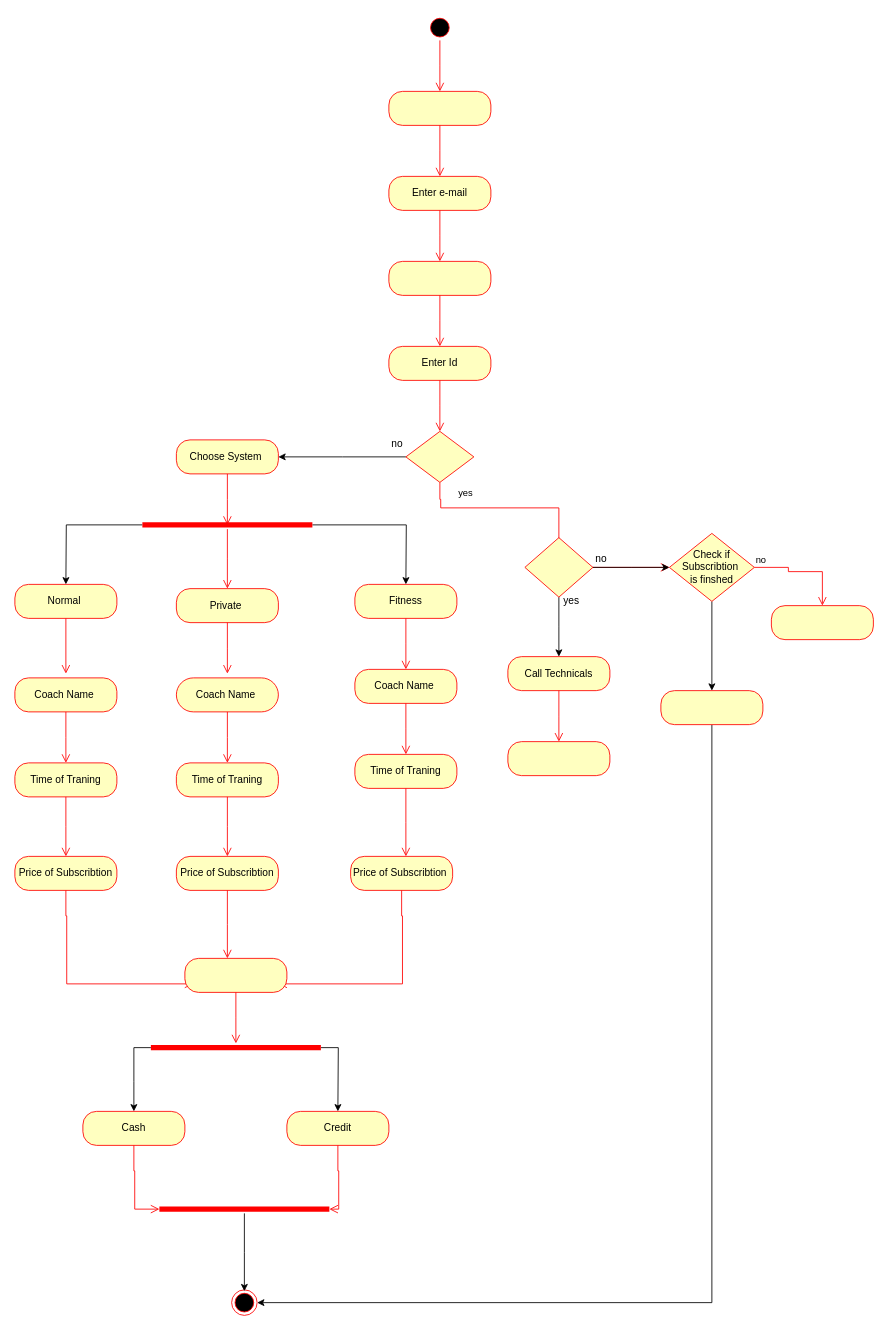
The diagram is 888 pixels wide and 1330 high, and some of its shapes have lost their labels. Each missing label, with the centre of its shape:
"Check for any crach" goes at [558,567].
"Enter Password" goes at [439,278].
"Fixing The Problem" goes at [558,758].
"if id for an admain" goes at [439,456].
"Log in" goes at [439,108].
"Payment" goes at [235,975].
"Send an Message to Trainee's E-mail" goes at [711,707].
"Take User Feedback" goes at [822,622].
